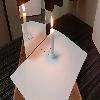fire: (50, 15, 54, 29)
